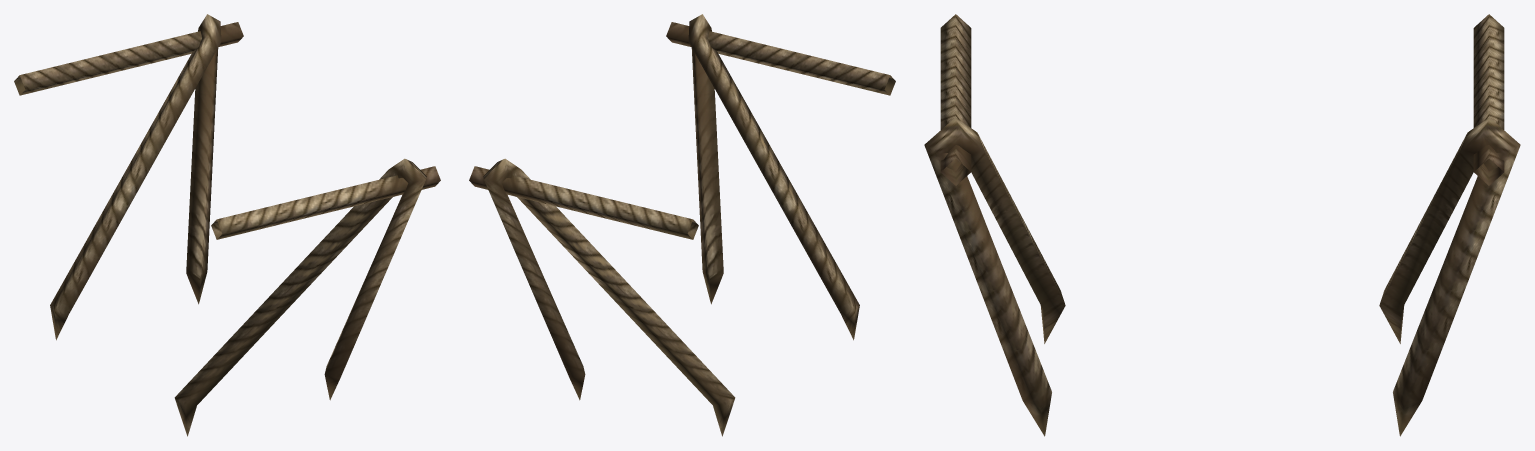
File: rope_bridge_bar_1.fbx
3 views of the same model, side by side, from view 1: azimuth 30°, elevation 25°; view 2: azimuth 150°, elevation 25°; view 3: azimuth 270°, elevation 25° (orthographic). The views are drawn at different scales.
Visible parts, largest first — view 1: rope_bridge_bar_1; view 2: rope_bridge_bar_1; view 3: rope_bridge_bar_1.
Part boxes in pixels (x1,y1,x2,y2): rope_bridge_bar_1: (14,14,440,436); rope_bridge_bar_1: (469,14,895,436); rope_bridge_bar_1: (924,14,1520,436).
Size of the model in its own units: 102 by 113 by 175.
